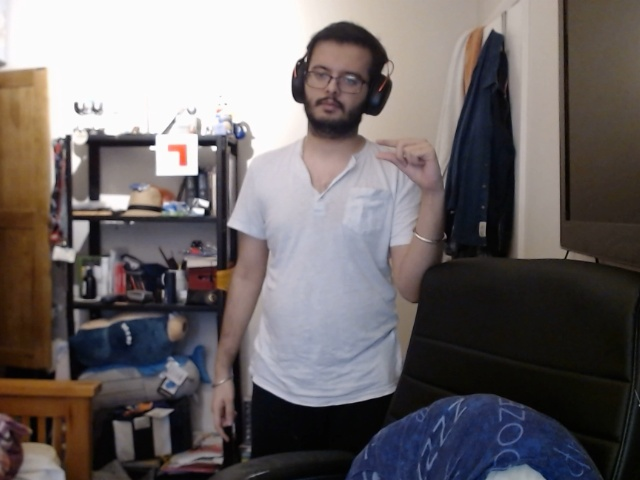Small: (367, 136, 447, 182)
